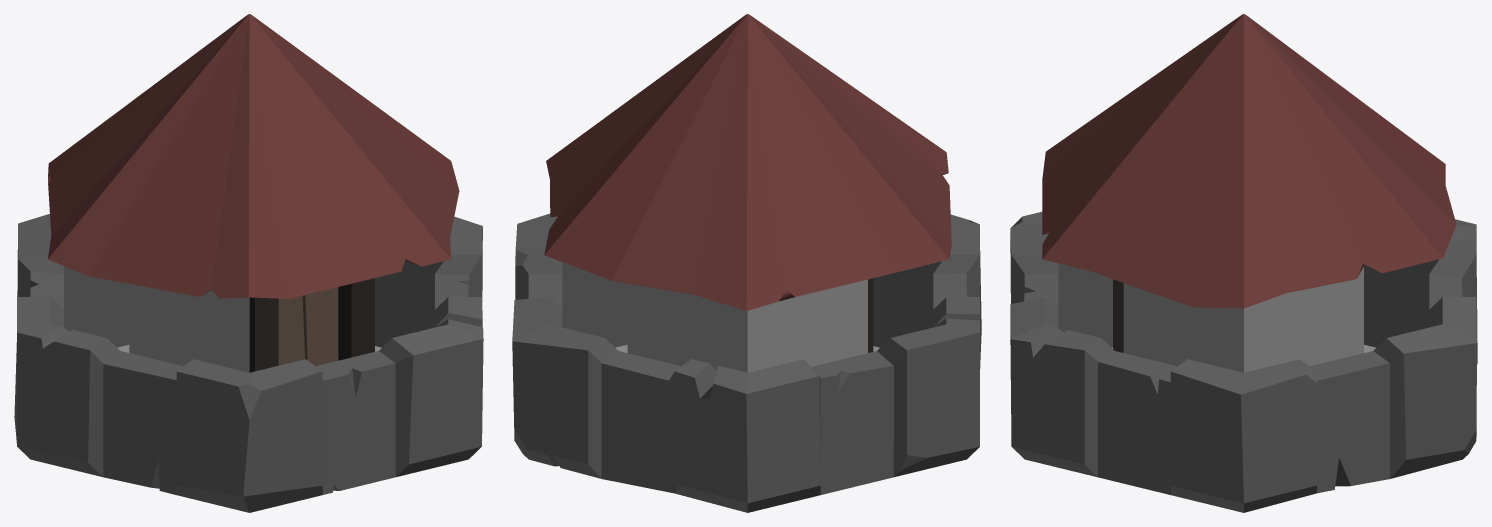
The model's file is towerTopPart.fbx.
3 renders of one model, left to right at view 1: azimuth 30°, elevation 25°; view 2: azimuth 150°, elevation 25°; view 3: azimuth 270°, elevation 25°, orthographic.
Parts seen in each view (by area): view 1: Cylinder; view 2: Cylinder; view 3: Cylinder.
Part boxes in pixels (left/top/right/bottom): Cylinder: left=14, top=14, right=483, bottom=512; Cylinder: left=512, top=14, right=981, bottom=512; Cylinder: left=1010, top=14, right=1477, bottom=512.
Size of the model in its own units: 2128 by 1809 by 1853.
